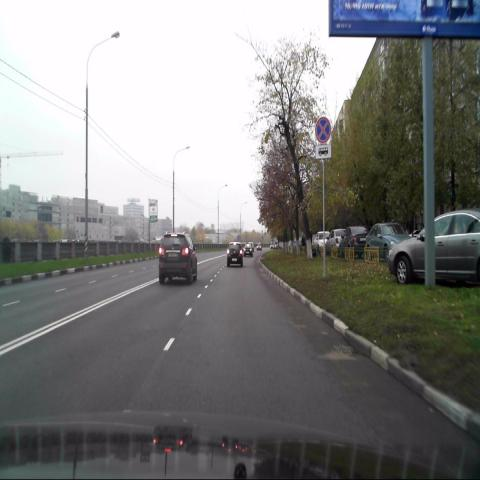3_27: (315, 116, 331, 143)
8_4_4: (316, 145, 332, 158)
